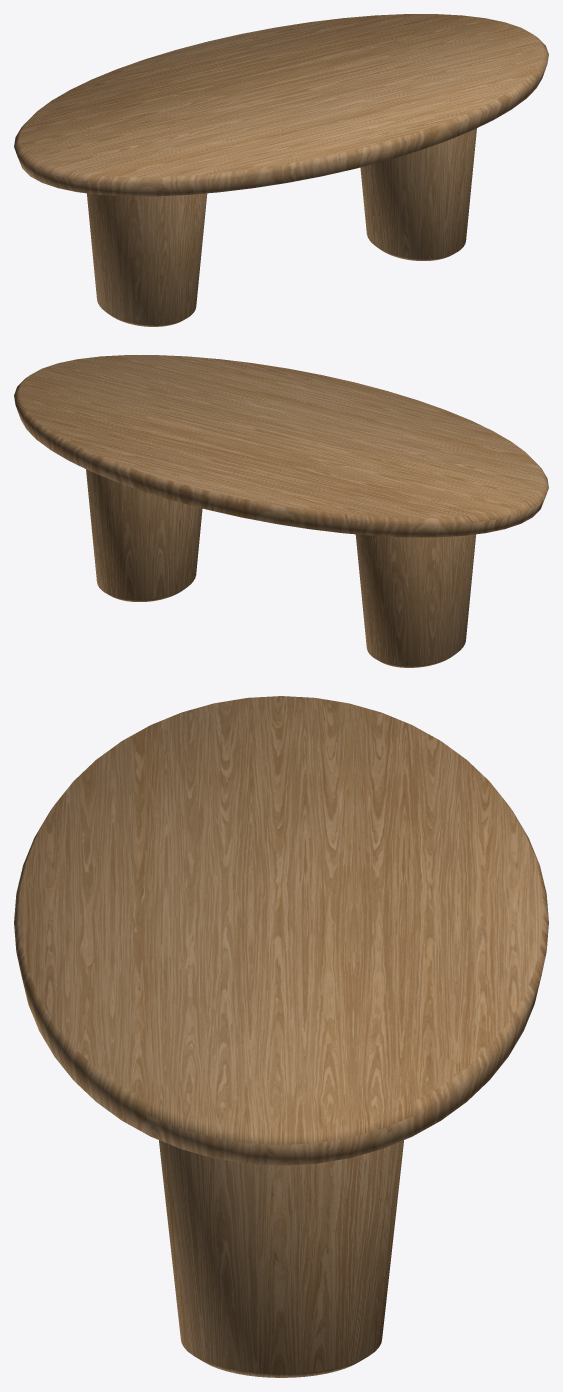
The model's file is coffee-table.glb.
3 renders of one model, top to bottom at view 1: azimuth 30°, elevation 25°; view 2: azimuth 150°, elevation 25°; view 3: azimuth 270°, elevation 25°, orthographic. The views are drawn at different scales.
Visible parts, largest first — view 1: Satin quarter-cut oak; view 2: Satin quarter-cut oak; view 3: Satin quarter-cut oak.
Boxes of the visible parts, x1=… form: Satin quarter-cut oak: x1=14, y1=14, x2=548, y2=326; Satin quarter-cut oak: x1=14, y1=355, x2=548, y2=667; Satin quarter-cut oak: x1=14, y1=696, x2=548, y2=1377.
Size of the model in its own units: 1.18 by 0.391 by 0.6.
1 material, 1 textured.
